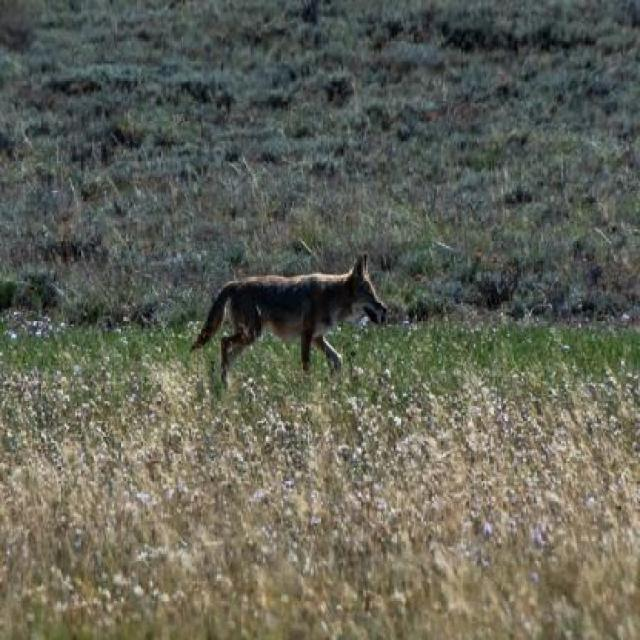Coyote: (188, 253, 390, 381)
